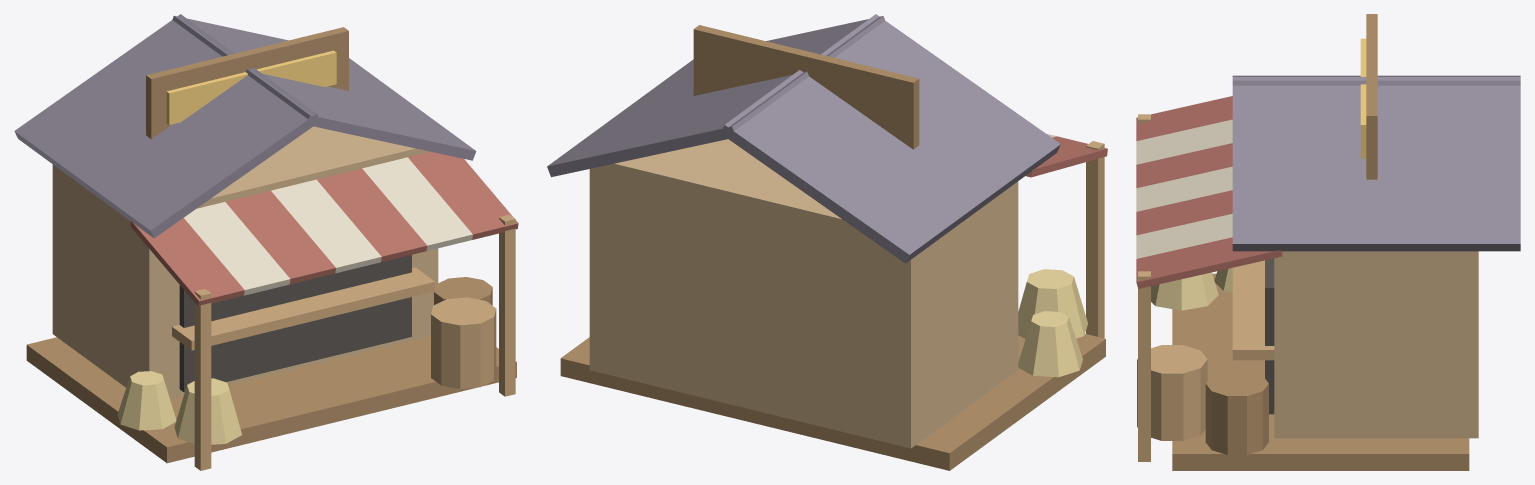
The model's file is market.glb.
3 renders of one model, left to right at view 1: azimuth 30°, elevation 25°; view 2: azimuth 150°, elevation 25°; view 3: azimuth 270°, elevation 25°, orthographic. The views are drawn at different scales.
Visible parts, largest first — view 1: market; view 2: market; view 3: market.
Boxes of the visible parts, x1=… form: market: x1=14, y1=14, x2=518, y2=470; market: x1=547, y1=14, x2=1107, y2=470; market: x1=1136, y1=14, x2=1520, y2=470.
Bounding box in the file's own units: 4.77 × 3.75 × 4.14.
